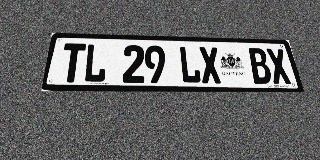2: (123, 45, 144, 83)
9: (145, 45, 166, 83)
B: (247, 48, 273, 84)
L: (83, 44, 108, 83), (179, 46, 202, 83)
T: (59, 43, 86, 83)
X: (265, 48, 292, 84), (198, 47, 222, 84)
